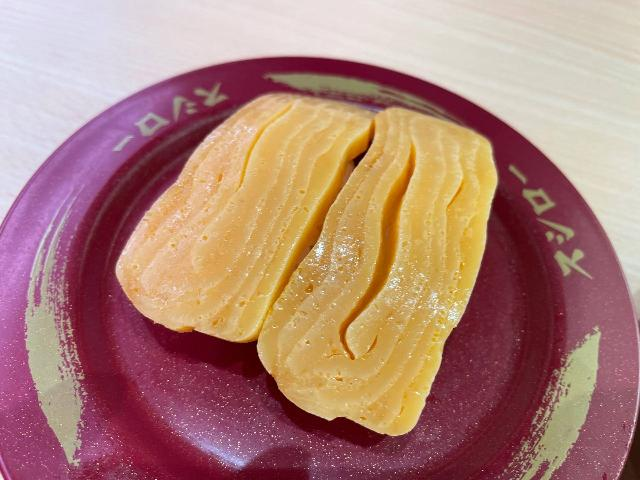janred: (95, 87, 558, 471)
